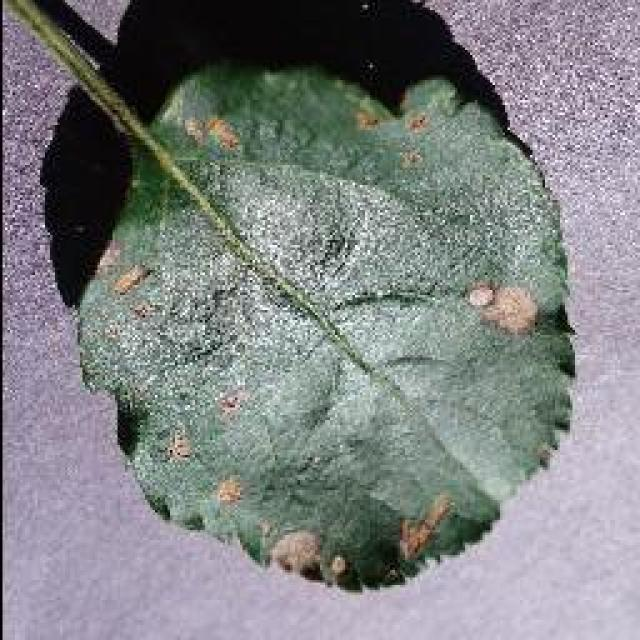Black_rot: (73, 60, 575, 590)
